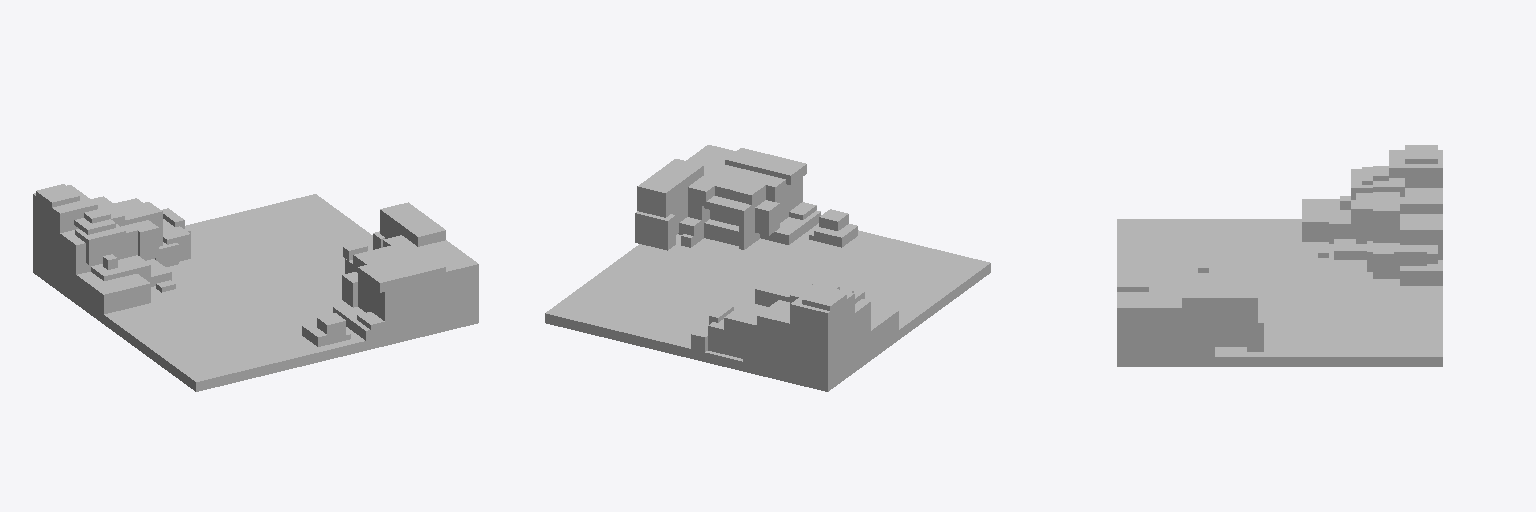
Rendered from land.obj.
3 views of the same model, side by side, from view 1: azimuth 30°, elevation 25°; view 2: azimuth 150°, elevation 25°; view 3: azimuth 270°, elevation 25° (orthographic).
Parts seen in each view (by area): view 1: object 1; view 2: object 1; view 3: object 1.
Boxes of the visible parts, <box> form: object 1: <box>33,184,478,391</box>; object 1: <box>545,145,990,391</box>; object 1: <box>1117,145,1442,366</box>.
Size of the model in its own units: 6 by 1.7 by 6.